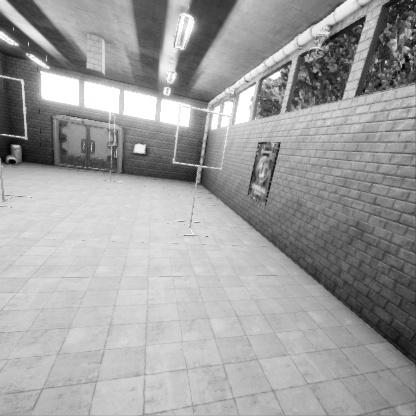gate: (175, 247, 236, 315), (108, 271, 115, 305)
